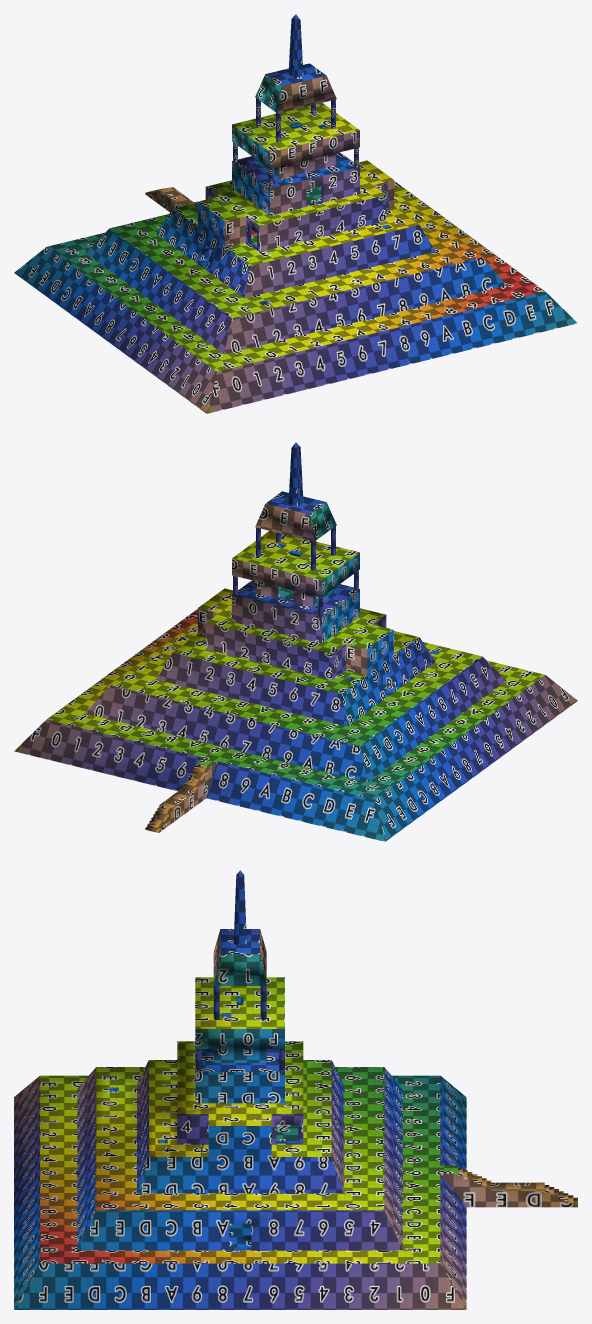
Rendered from zigguratUV.fbx.
The picture shows the model from 3 angles, top to bottom: view 1: azimuth 30°, elevation 25°; view 2: azimuth 150°, elevation 25°; view 3: azimuth 270°, elevation 25°; orthographic projection. The views are drawn at different scales.
Visible parts, largest first — view 1: ziggurat; view 2: ziggurat; view 3: ziggurat.
Part boxes in pixels (x1,y1,x2,y2): ziggurat: [14, 14, 577, 413]; ziggurat: [14, 442, 577, 841]; ziggurat: [14, 870, 577, 1309].
Size of the model in its own units: 109 by 79.52 by 122.
Materials: 1 (1 with a texture image).
